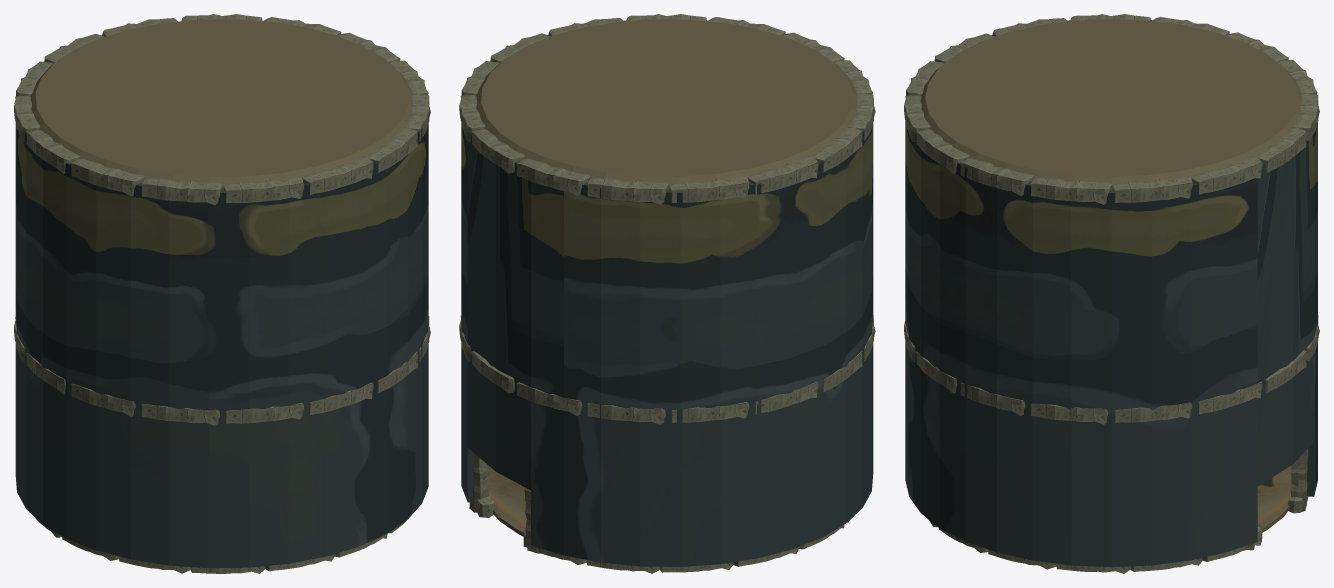
The model's file is jumpBoss.fbx.
3 renders of one model, left to right at view 1: azimuth 30°, elevation 25°; view 2: azimuth 150°, elevation 25°; view 3: azimuth 270°, elevation 25°, orthographic.
Visible parts, largest first — view 1: Cylinder, Circle.001, Cube.002, Cube.001, Cube; view 2: Cylinder, Circle.001, Cube.002, Cube.001, Cube, Circle, Cube.004; view 3: Cylinder, Circle.001, Cube.002, Cube.001, Cube, Circle, Cube.003.
Boxes of the visible parts, x1,y1,x2,y2 form: Cylinder: (15,35,428,568); Circle.001: (30,19,413,185); Cube.002: (14,14,430,205); Cube.001: (14,316,430,425); Cube: (35,517,406,573); Cylinder: (461,20,873,566); Circle.001: (475,19,857,185); Cube.002: (459,14,875,204); Cube.001: (459,315,875,424); Cube: (476,495,852,573); Circle: (488,466,526,536); Cube.004: (469,453,489,512); Cylinder: (905,20,1317,567); Circle.001: (920,19,1302,185); Cube.002: (904,14,1319,204); Cube.001: (904,315,1319,424); Cube: (926,466,1308,573); Circle: (1257,466,1291,532); Cube.003: (1290,449,1308,511).
Bounding box in the file's own units: 5944 × 6234 × 5957.
3 materials, 3 textured.
